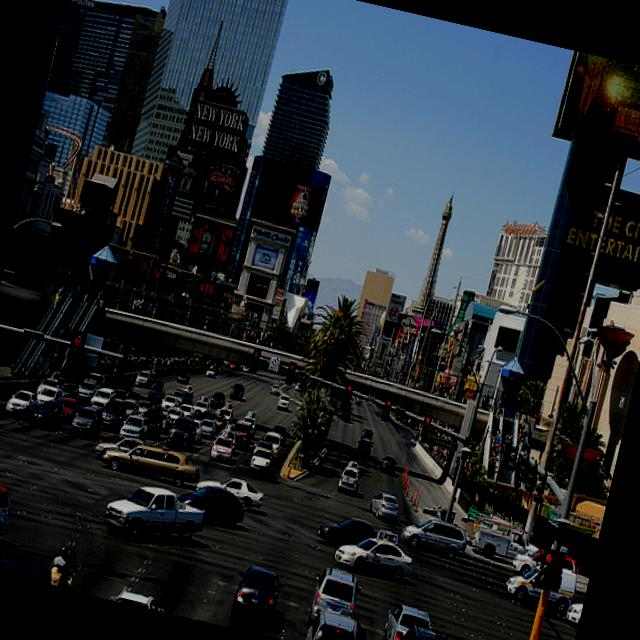Vehicle: (0, 270, 619, 640), (98, 474, 210, 556), (330, 528, 418, 586), (502, 556, 578, 618), (228, 560, 288, 630), (305, 564, 367, 631), (173, 480, 249, 530), (469, 519, 542, 569), (300, 604, 366, 640), (44, 543, 84, 592), (105, 582, 168, 612), (366, 489, 403, 522), (562, 589, 586, 630), (246, 444, 274, 474), (215, 426, 238, 446)
